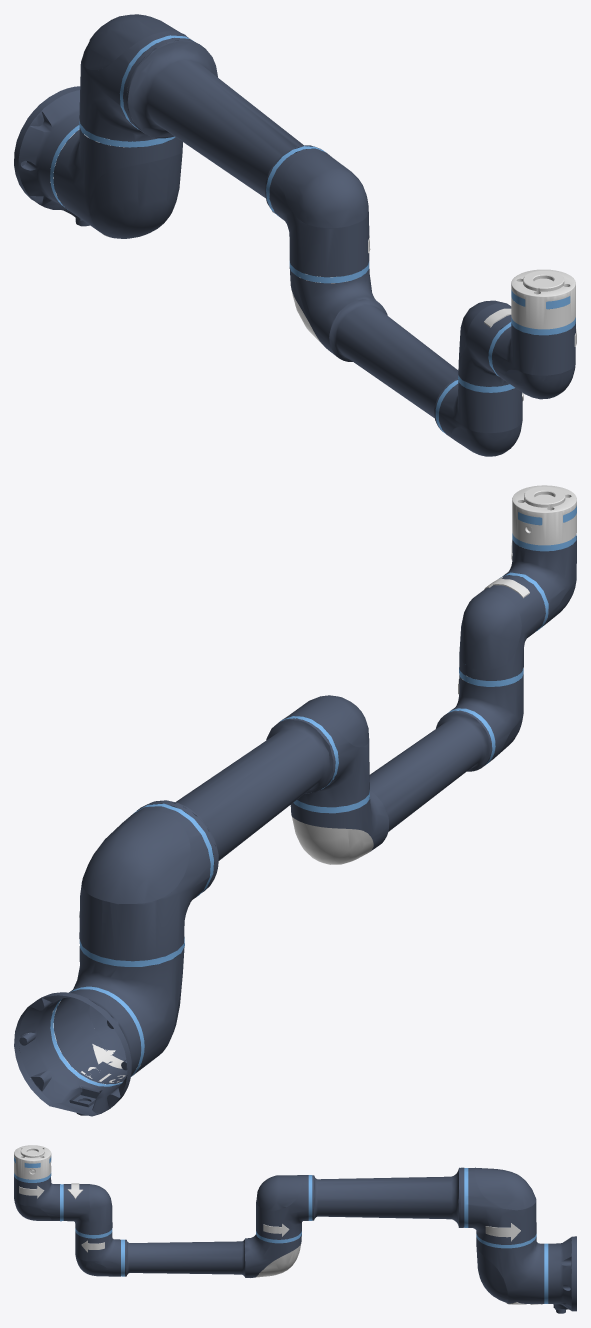
Rendered from 12kg-6axis-model-v2.glb.
The picture shows the model from 3 angles, top to bottom: view 1: azimuth 30°, elevation 25°; view 2: azimuth 150°, elevation 25°; view 3: azimuth 270°, elevation 25°; orthographic projection. The views are drawn at different scales.
Visible parts, largest first — view 1: Link2, Link3, Link1, Link5, Base, Link6, Link4; view 2: Link2, Link3, Link1, Base, Link4, Link6, Link5; view 3: Link2, Link3, Link1, Base, Link4, Link5, Link6, arrow2.
Part boxes in pixels (<box>): Link2: <box>79,14,369,283</box>; Link3: <box>289,265,522,456</box>; Link1: <box>53,105,182,238</box>; Link5: <box>492,309,575,399</box>; Base: <box>14,86,138,226</box>; Link6: <box>511,269,575,329</box>; Link4: <box>458,300,538,386</box>; Link2: <box>79,695,369,966</box>; Link3: <box>290,667,523,864</box>; Link1: <box>53,941,184,1084</box>; Base: <box>14,986,144,1116</box>; Link4: <box>459,572,548,680</box>; Link6: <box>512,485,576,545</box>; Link5: <box>502,533,576,625</box>; Link2: <box>256,1167,536,1248</box>; Link3: <box>75,1228,301,1277</box>; Link1: <box>476,1237,544,1303</box>; Base: <box>544,1236,576,1313</box>; Link4: <box>60,1184,112,1234</box>; Link5: <box>14,1172,59,1220</box>; Link6: <box>14,1145,51,1179</box>; arrow2: <box>485,1223,520,1241</box>.
Bounding box in the file's own units: 0.1983 × 0.4687 × 1.49.
